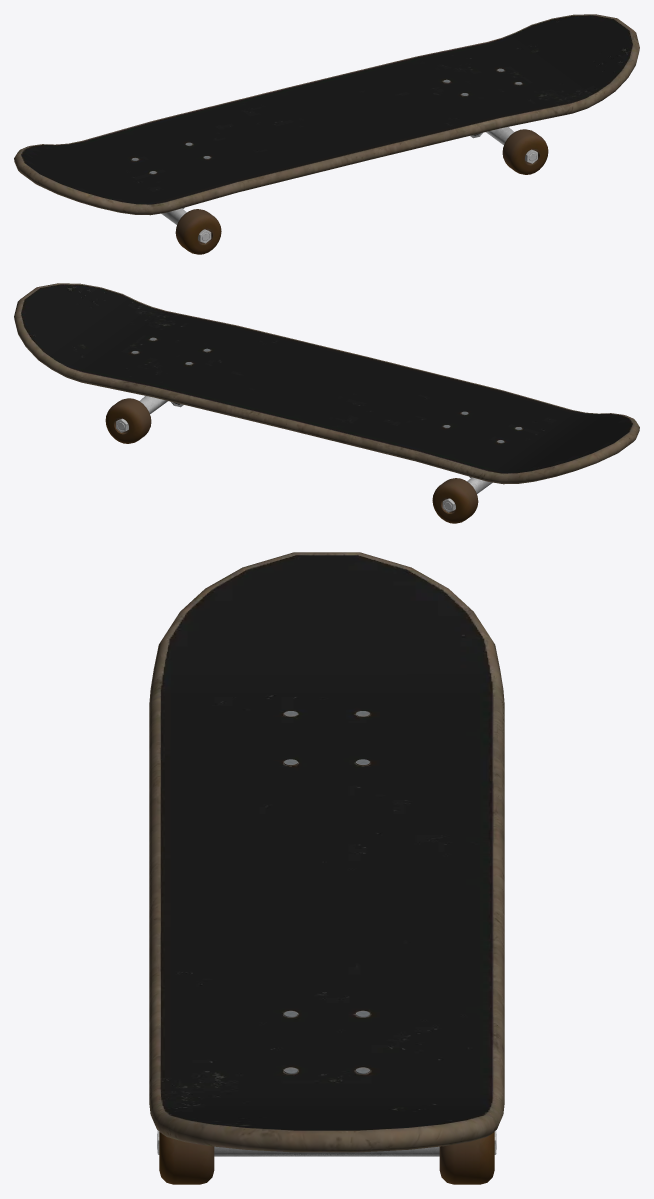
The model's file is skateboard-transformed.glb.
The picture shows the model from 3 angles, top to bottom: view 1: azimuth 30°, elevation 25°; view 2: azimuth 150°, elevation 25°; view 3: azimuth 270°, elevation 25°; orthographic projection. The views are drawn at different scales.
Parts seen in each view (by area): view 1: Board_Scateboard_MAT_0; view 2: Board_Scateboard_MAT_0; view 3: Board_Scateboard_MAT_0.
Boxes of the visible parts, <box> form: Board_Scateboard_MAT_0: <box>14,14,639,254</box>; Board_Scateboard_MAT_0: <box>14,283,639,523</box>; Board_Scateboard_MAT_0: <box>149,552,504,1184</box>.
Bounding box in the file's own units: 0.7597 × 0.1081 × 0.1944.
Materials: 1 (1 with a texture image).
